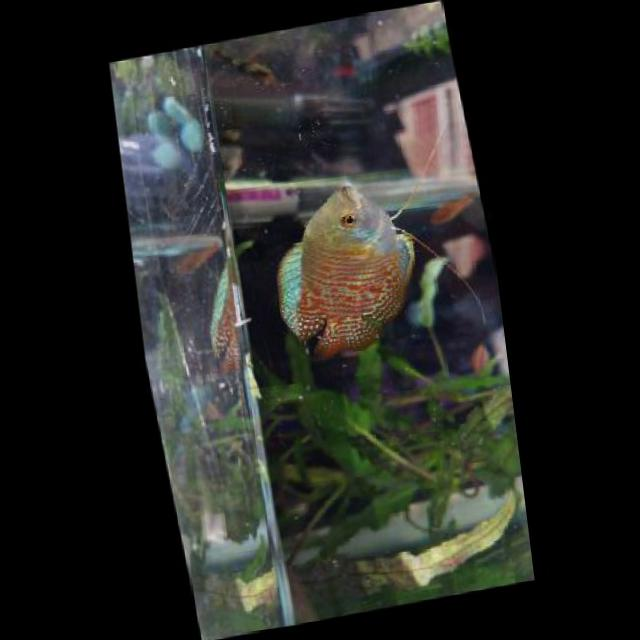Gourami: (260, 177, 423, 365)
